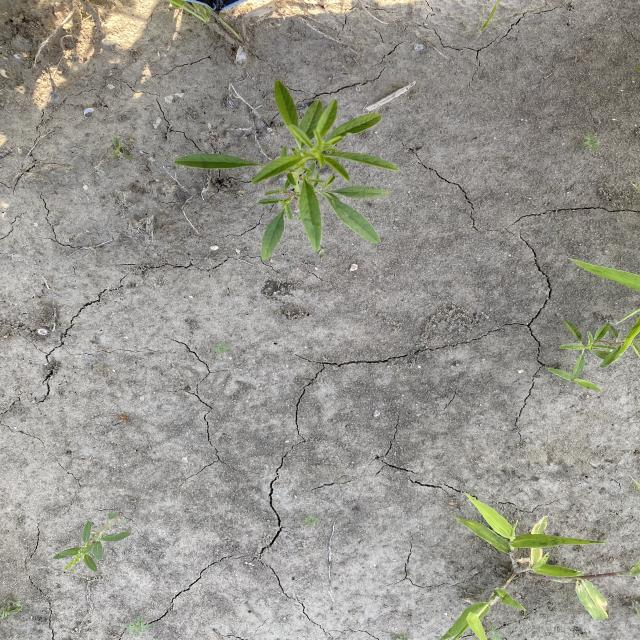Waterhemp: (170, 80, 404, 262), (51, 509, 133, 573), (556, 316, 622, 382)
